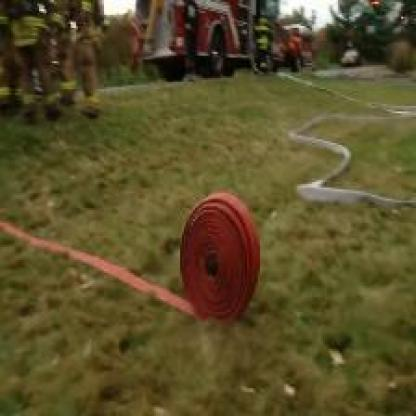other: (158, 176, 280, 335)
